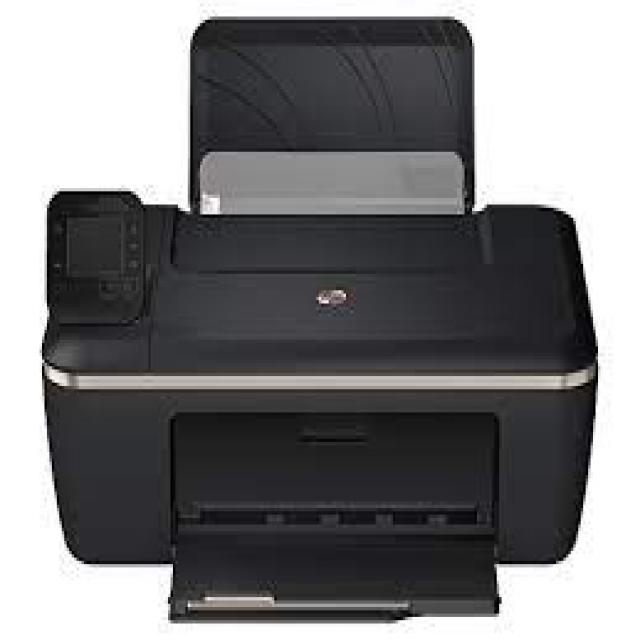printer: (23, 1, 635, 640)
